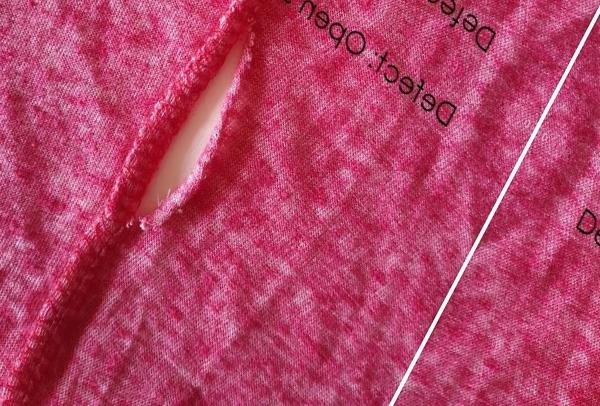hole: (128, 22, 261, 231)
